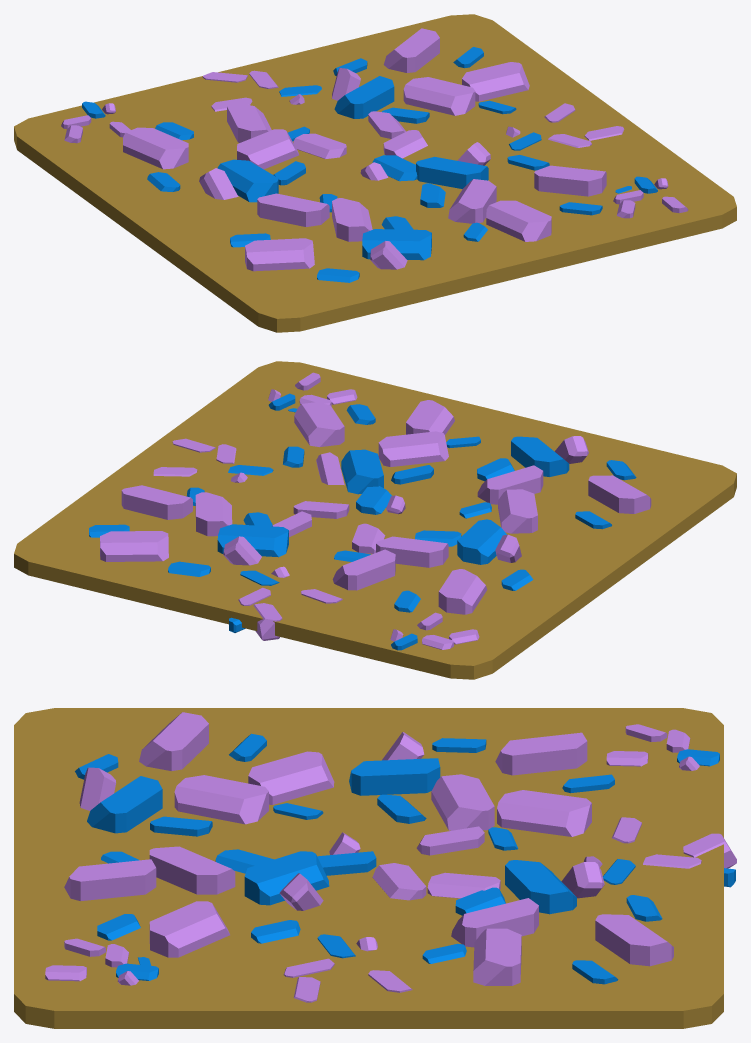
The model's file is ChocolateBarkStandalone.fbx.
3 renders of one model, top to bottom at view 1: azimuth 30°, elevation 25°; view 2: azimuth 150°, elevation 25°; view 3: azimuth 270°, elevation 25°, orthographic. The views are drawn at different scales.
Visible parts, largest first — view 1: Chocolate.002, Roasted Nuts.005; view 2: Chocolate.002, Roasted Nuts.005; view 3: Chocolate.002, Roasted Nuts.005.
Part boxes in pixels (x1,y1,x2,y2): Chocolate.002: (14,14,736,332); Roasted Nuts.005: (61,28,688,282); Chocolate.002: (14,361,736,679); Roasted Nuts.005: (89,372,651,650); Chocolate.002: (14,708,723,1028); Roasted Nuts.005: (45,712,736,1002).
Size of the model in its own units: 65.42 by 5.77 by 66.01.
